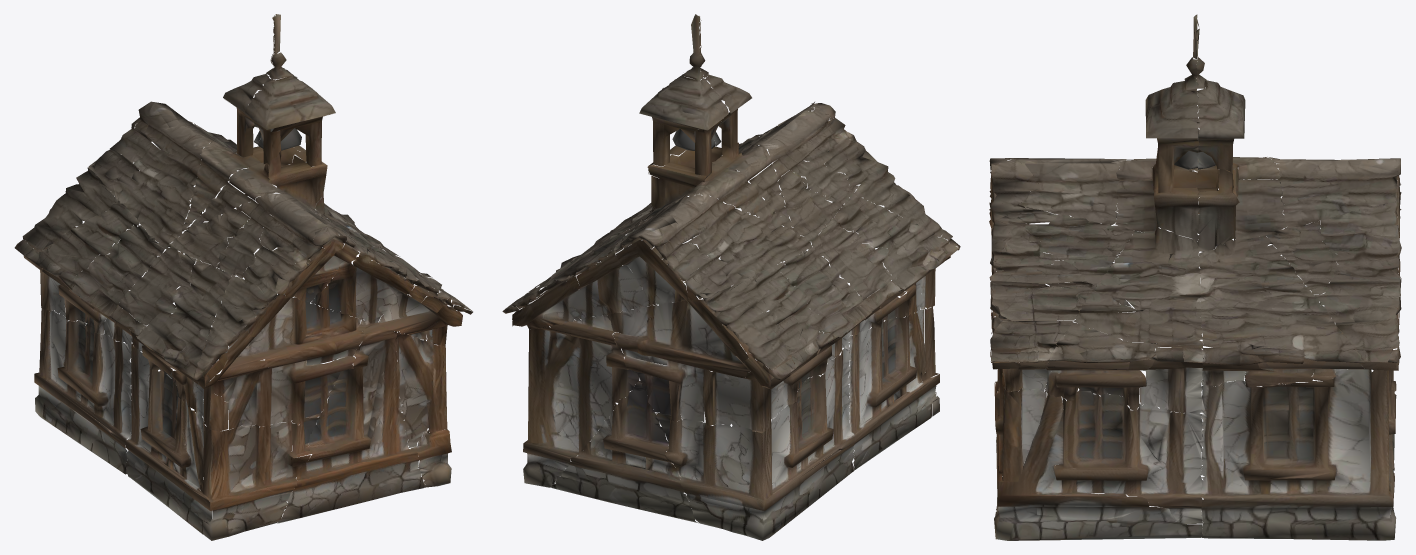
The model's file is schoolhouse.glb.
3 renders of one model, left to right at view 1: azimuth 30°, elevation 25°; view 2: azimuth 150°, elevation 25°; view 3: azimuth 270°, elevation 25°, orthographic. The views are drawn at different scales.
Visible parts, largest first — view 1: tripo_node_3f4de461-2abe-488e-b05d-89be54756353; view 2: tripo_node_3f4de461-2abe-488e-b05d-89be54756353; view 3: tripo_node_3f4de461-2abe-488e-b05d-89be54756353.
Boxes of the visible parts, bbox=[...] form: tripo_node_3f4de461-2abe-488e-b05d-89be54756353: bbox=[14, 14, 472, 540]; tripo_node_3f4de461-2abe-488e-b05d-89be54756353: bbox=[502, 14, 960, 540]; tripo_node_3f4de461-2abe-488e-b05d-89be54756353: bbox=[989, 14, 1401, 540].
Size of the model in its own units: 4.61 by 6.68 by 5.21.
Materials: 1 (1 with a texture image).
